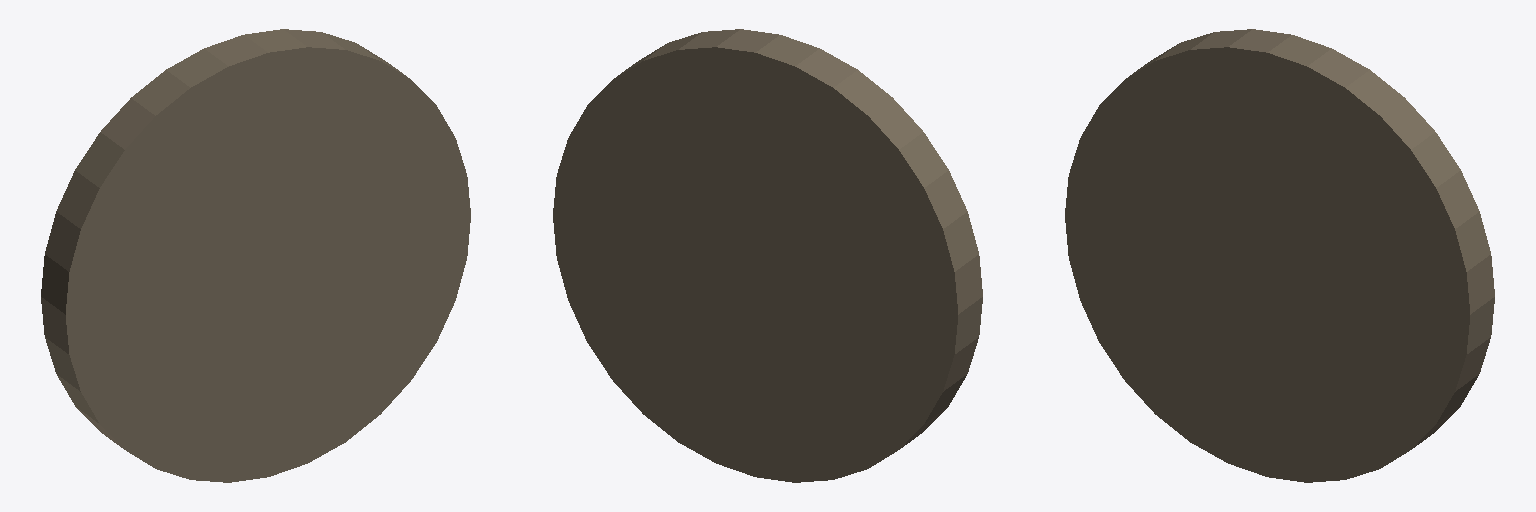
The picture shows the model from 3 angles: view 1: azimuth 30°, elevation 25°; view 2: azimuth 150°, elevation 25°; view 3: azimuth 330°, elevation 25°; orthographic projection.
Parts seen in each view (by area): view 1: Cylinder.047; view 2: Cylinder.047; view 3: Cylinder.047.
Part boxes in pixels (x1,y1,x2,y2): Cylinder.047: (41,29,470,482); Cylinder.047: (553,29,982,482); Cylinder.047: (1065,29,1494,482).
Size of the model in its own units: 1.09 by 1.09 by 0.1151.
1 materials, 1 textured.